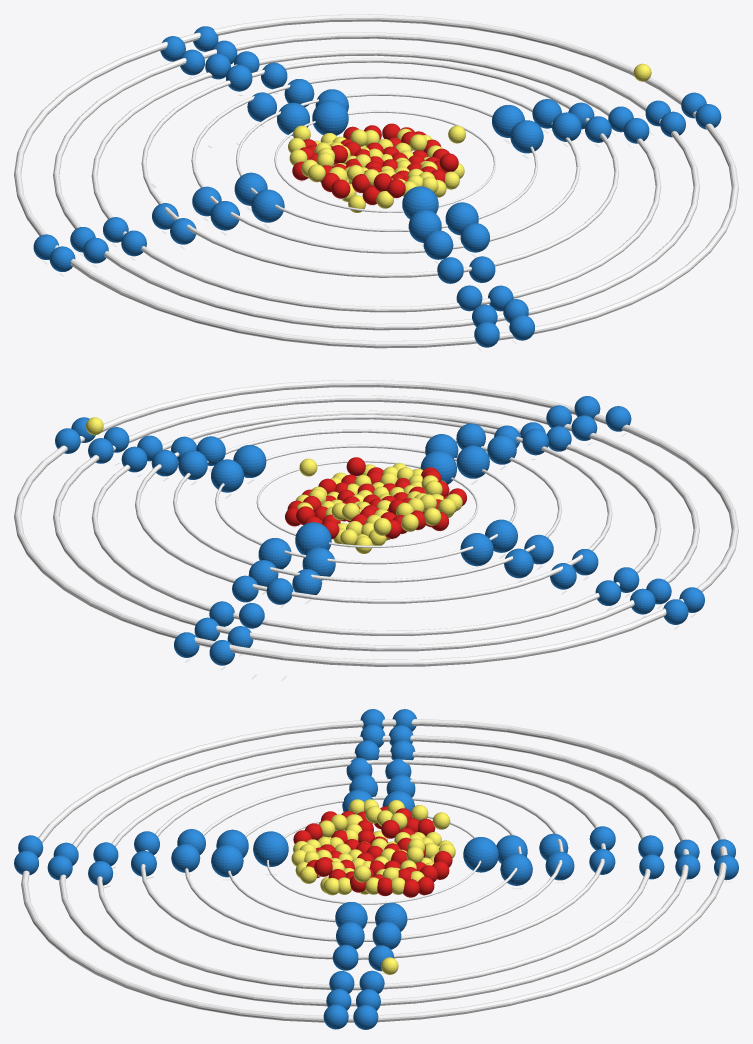
3 views of the same model, one above another, from view 1: azimuth 30°, elevation 25°; view 2: azimuth 150°, elevation 25°; view 3: azimuth 270°, elevation 25° (orthographic). The views are drawn at different scales.
Visible parts, largest first — view 1: Torus.007, Torus.006, Torus.005, Torus.004, Torus.003, Torus.002, Torus.001, g, g.005, g.003, g.001, g.006 (+16 smaller); view 2: Torus.007, Torus.006, Torus.005, Torus.004, Torus.003, Torus.002, Torus.001, g, g.006, g.004, g.002, g.003 (+33 smaller); view 3: Torus.007, Torus.006, Torus.005, Torus.004, Torus.003, Torus.002, g.001, g, g.007, Torus.001, g.009, g.015 (+7 smaller).
Part boxes in pixels (x1=…): Torus.007: x1=14, y1=14, x2=738, y2=348; Torus.006: x1=53, y1=32, x2=699, y2=330; Torus.005: x1=91, y1=50, x2=661, y2=312; Torus.004: x1=141, y1=58, x2=618, y2=277; Torus.003: x1=191, y1=74, x2=580, y2=253; Torus.002: x1=236, y1=93, x2=538, y2=231; Torus.001: x1=274, y1=110, x2=495, y2=212; g: x1=312, y1=100, x2=348, y2=135; g.005: x1=510, y1=120, x2=543, y2=153; g.003: x1=251, y1=189, x2=284, y2=222; g.001: x1=402, y1=186, x2=438, y2=219; g.006: x1=408, y1=210, x2=441, y2=242; Torus.007: x1=14, y1=380, x2=738, y2=666; Torus.006: x1=53, y1=395, x2=699, y2=651; Torus.005: x1=91, y1=410, x2=661, y2=635; Torus.004: x1=135, y1=414, x2=612, y2=603; Torus.003: x1=173, y1=429, x2=561, y2=582; Torus.002: x1=215, y1=444, x2=517, y2=564; Torus.001: x1=256, y1=460, x2=478, y2=547; g: x1=295, y1=522, x2=331, y2=554; g.006: x1=456, y1=445, x2=489, y2=478; g.004: x1=211, y1=459, x2=243, y2=492; g.002: x1=460, y1=533, x2=493, y2=566; g.003: x1=485, y1=519, x2=517, y2=552; Torus.007: x1=21, y1=719, x2=727, y2=1022; Torus.006: x1=59, y1=735, x2=689, y2=1006; Torus.005: x1=97, y1=751, x2=650, y2=990; Torus.004: x1=140, y1=759, x2=605, y2=959; Torus.003: x1=185, y1=779, x2=563, y2=941; Torus.002: x1=228, y1=796, x2=521, y2=923; g.001: x1=253, y1=831, x2=288, y2=866; g: x1=463, y1=837, x2=498, y2=872; g.007: x1=211, y1=845, x2=243, y2=877; Torus.001: x1=266, y1=816, x2=481, y2=904; g.009: x1=500, y1=853, x2=532, y2=885; g.015: x1=171, y1=844, x2=200, y2=872.
Bounding box in the file's own units: 20.33 × 3.03 × 20.12.
